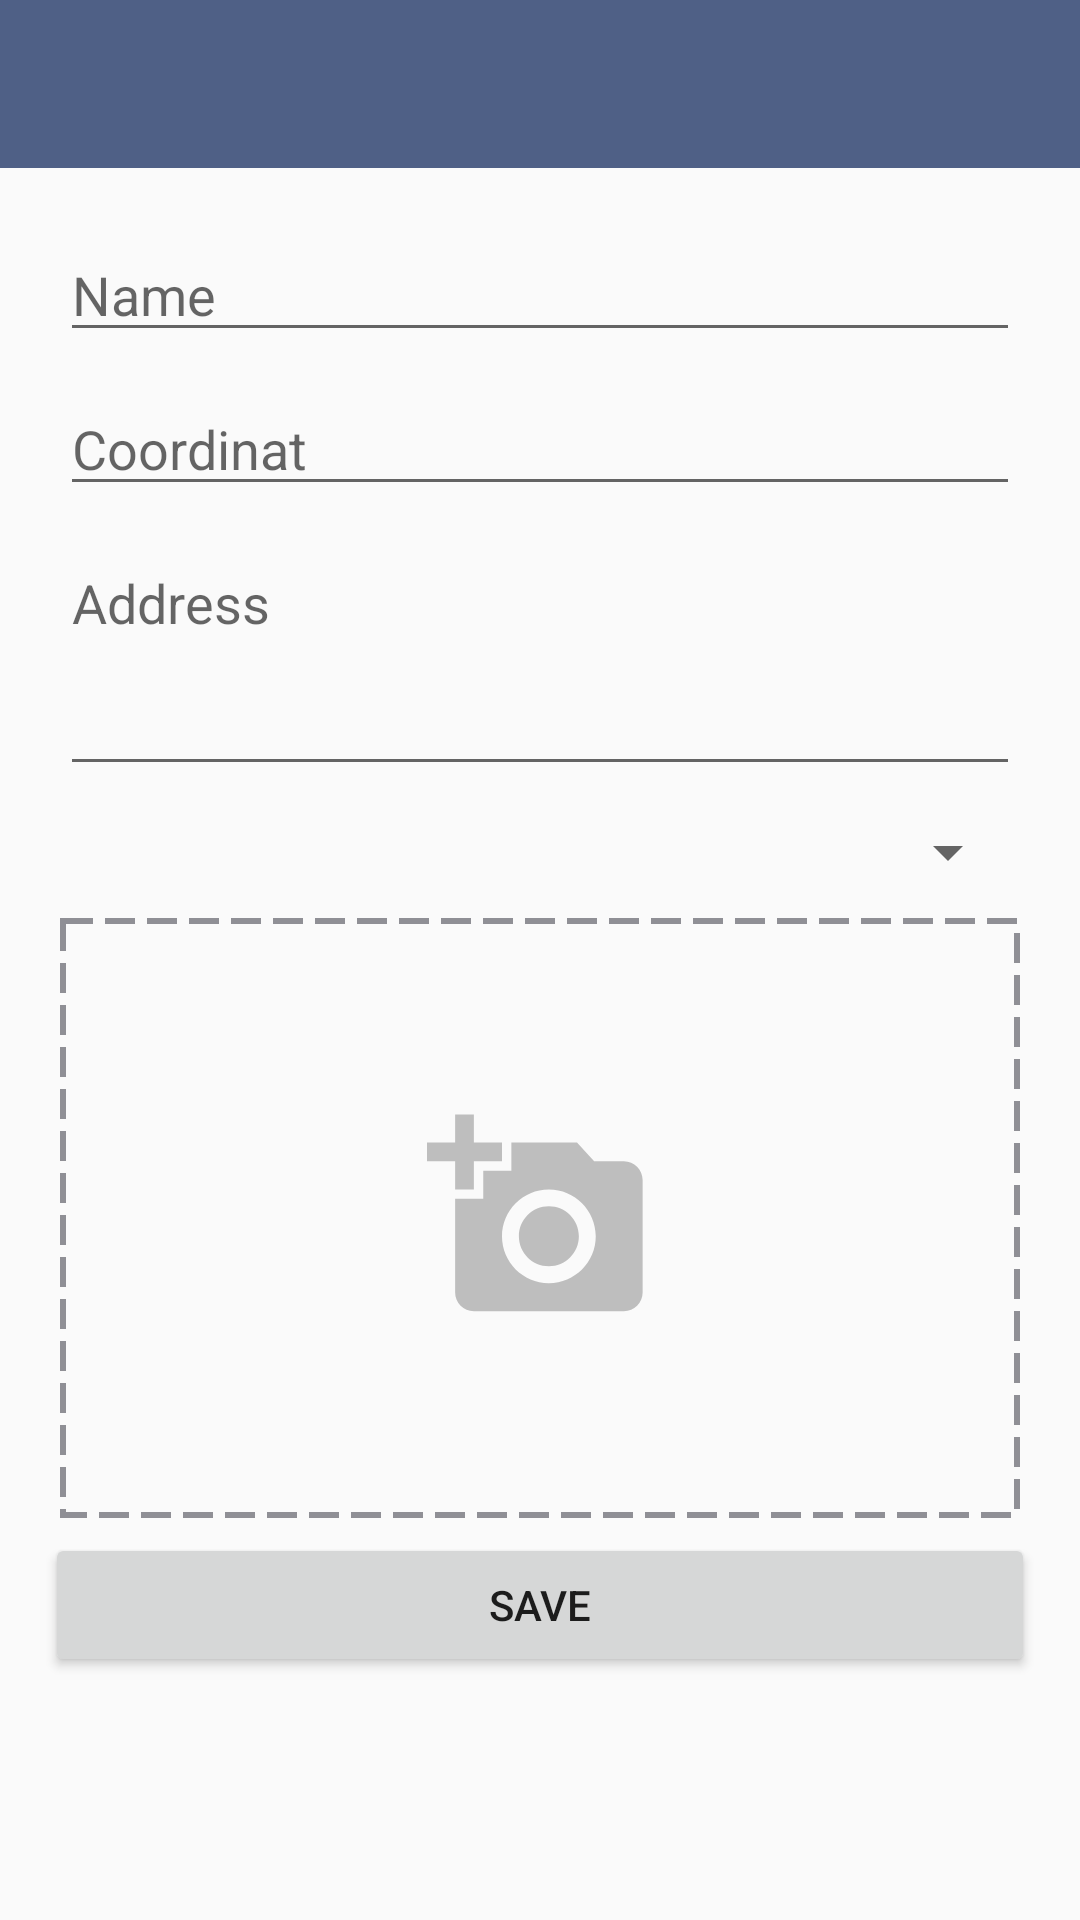

Icon bounding boxes for this 1080px×1920px phone screenshot, format (x1, y1, x2, y2):
add photo: (427, 1114, 643, 1311)
